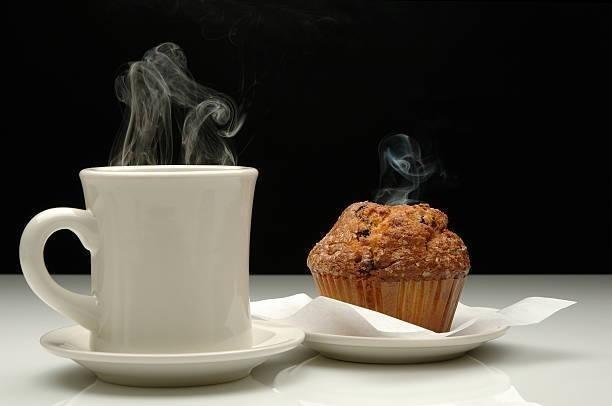cup-handle: (19, 160, 260, 359)
